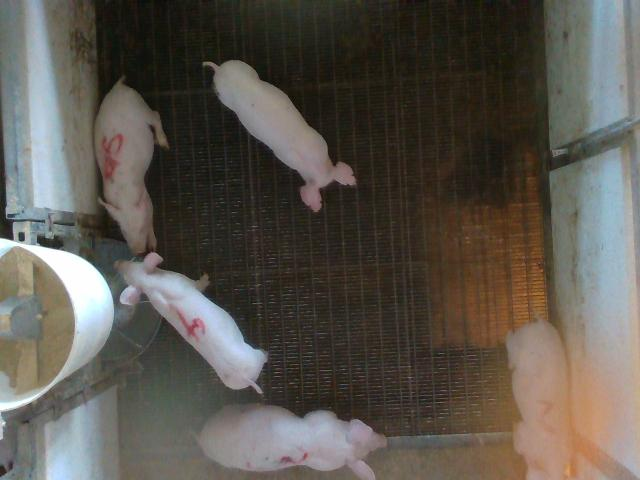pig-2: (506, 318, 572, 479)
pig-3: (198, 405, 386, 479)
pig-4: (116, 252, 268, 393)
pig-5: (95, 78, 169, 254)
